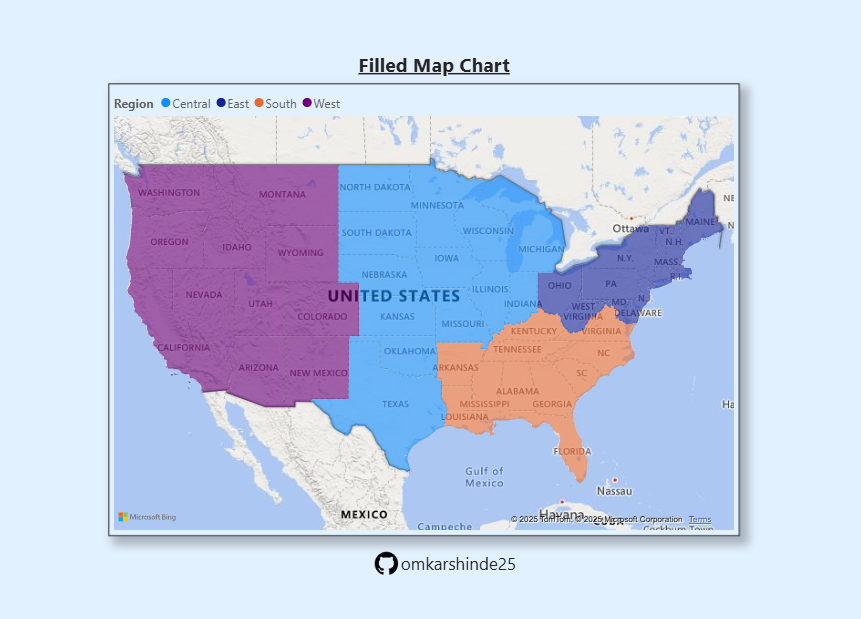

Layout of this report page (visuals, bound fields, positions):
{"tool":"powerbi","page":{"name":"Filled Map","canvas":[1280,720],"ordinal":8},"visuals":[{"type":"filledMap","fields":{"Category":["Orders.State"],"Series":["Orders.Region"]},"box":[282.7,101.5,693,496.7],"z":0},{"type":"textbox","box":[0,60.4,1280.3,41.2],"z":1000},{"type":"textbox","box":[53.5,610.6,1226.8,50.8],"z":2000},{"type":"image","box":[565.5,610.9,44.5,35.5],"z":3000}]}

Visuals, with their boxes on the page's 1280x720 design canvas (x1, y1, x2, y2). These are canvas units, not pixel positions in the 861x619 screenshot, which may show the page scaled, cropped or inside an application window:
filledMap - Orders.State x Orders.Region: [x1=283, y1=102, x2=976, y2=598]
textbox: [x1=0, y1=60, x2=1280, y2=102]
textbox: [x1=54, y1=611, x2=1280, y2=661]
image: [x1=566, y1=611, x2=610, y2=646]
